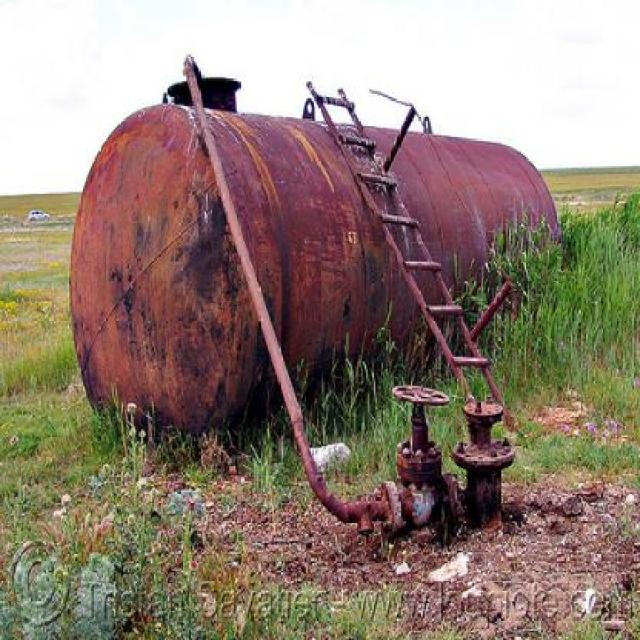corrosion: (68, 50, 563, 532)
